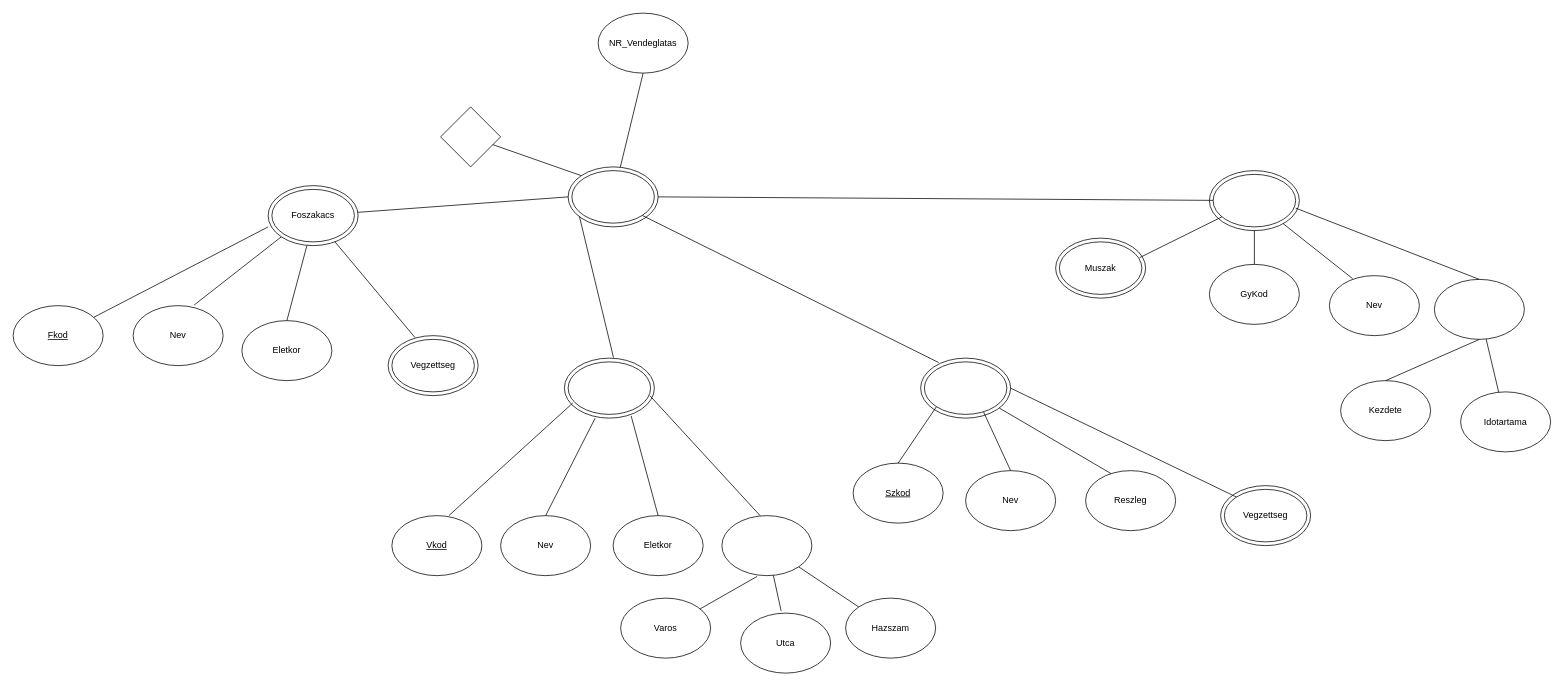
The diagram is 1564 pixels wide and 686 high, and some of its shapes have lost their labels. Each missing label, with the box of its shape:
Cím: (721, 515, 812, 576)
Ekód: (440, 106, 501, 167)
Etterem: (571, 170, 654, 223)
Gyakorlat: (1434, 279, 1524, 339)
Gyakornok: (1212, 174, 1296, 227)
Szakacs: (924, 361, 1007, 414)
Vendeg: (567, 361, 651, 414)
